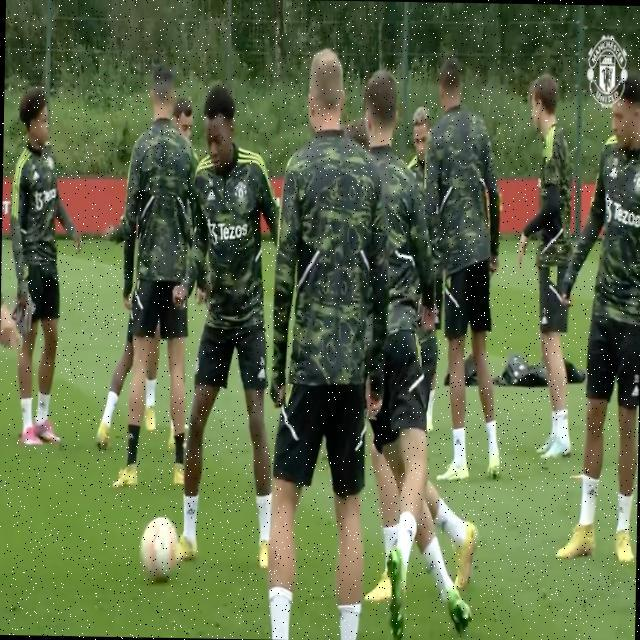Adidas: (206, 186, 216, 203), (609, 164, 619, 179), (186, 502, 195, 518), (587, 484, 597, 498), (258, 366, 266, 381)
